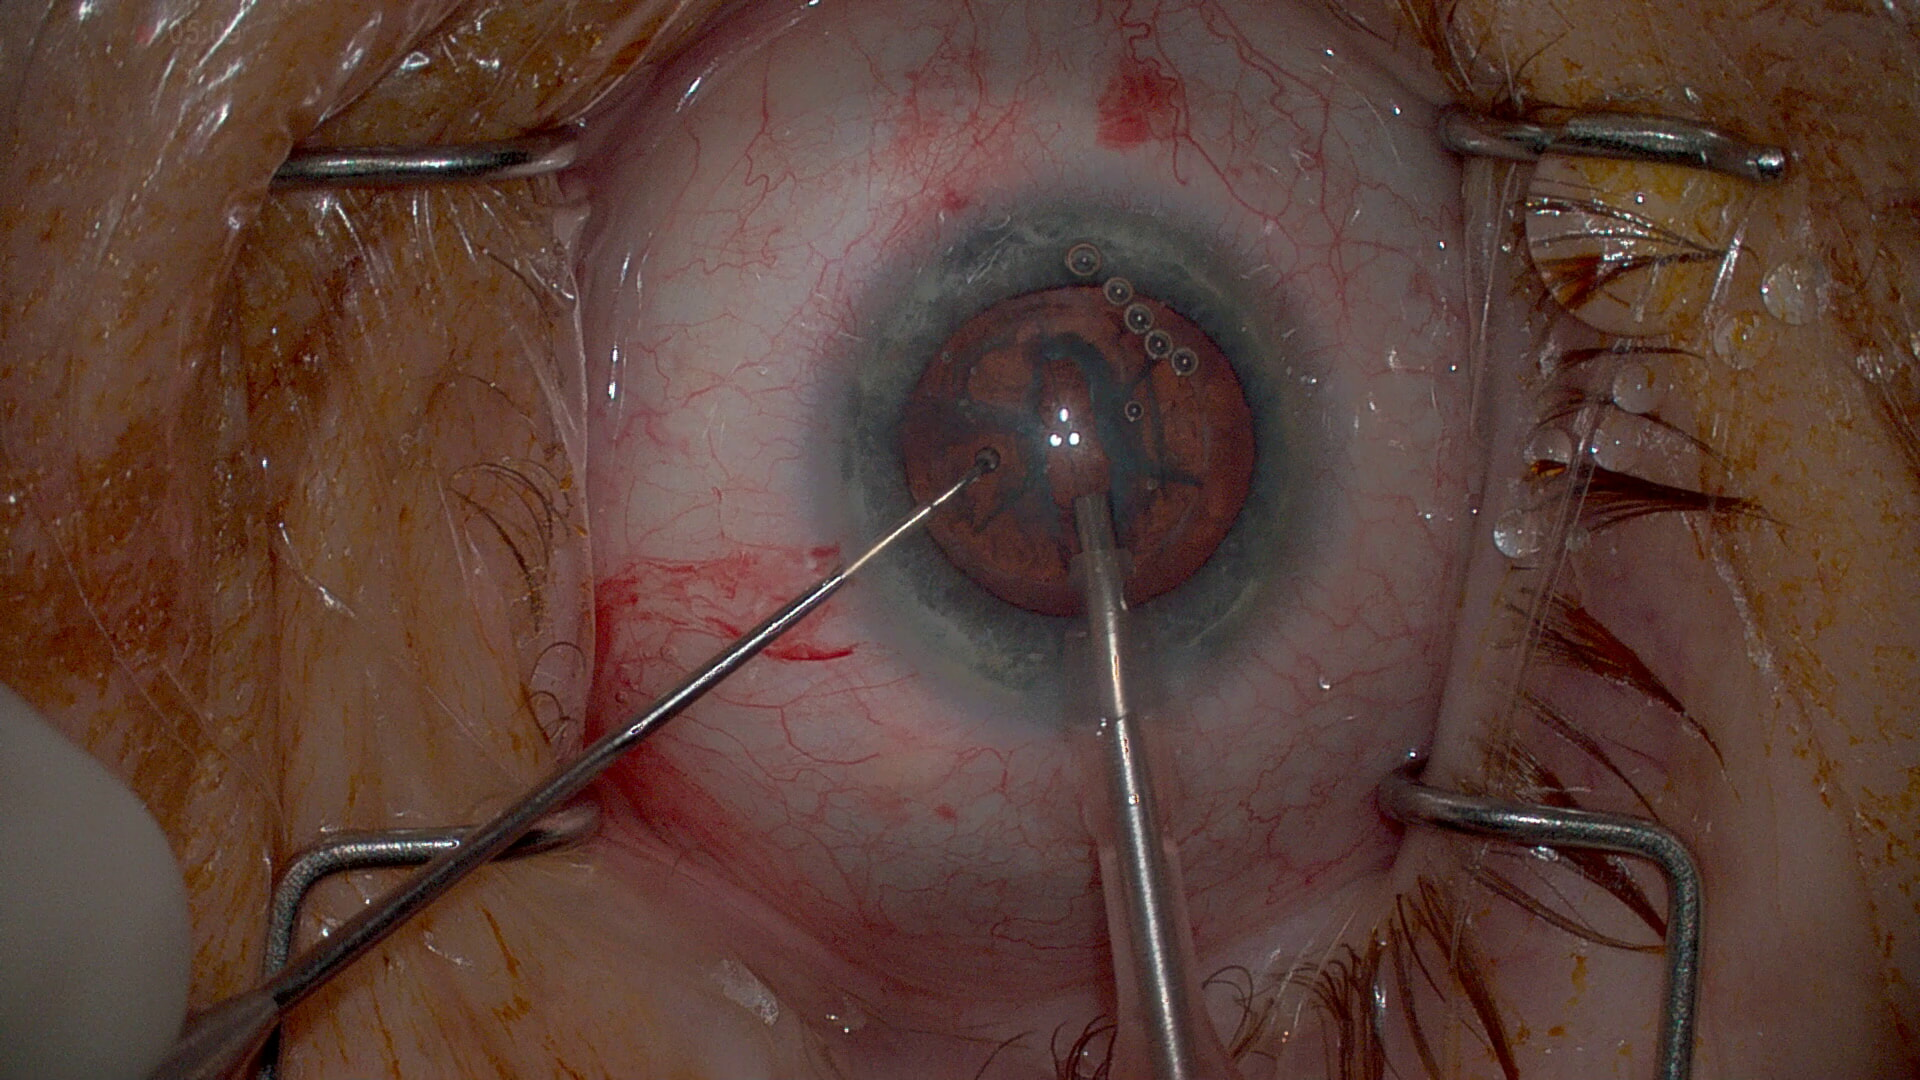iris: (847, 219, 1322, 699)
pupil: (898, 283, 1264, 616)
